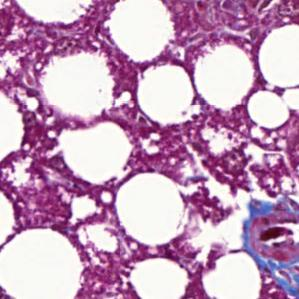steatosis: (115, 175, 189, 247), (134, 66, 194, 128), (196, 44, 254, 108)
